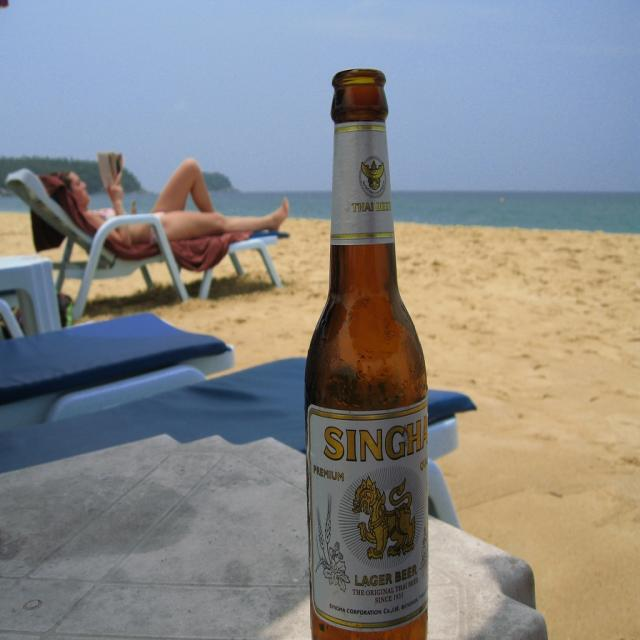singha: (307, 406, 431, 631)
